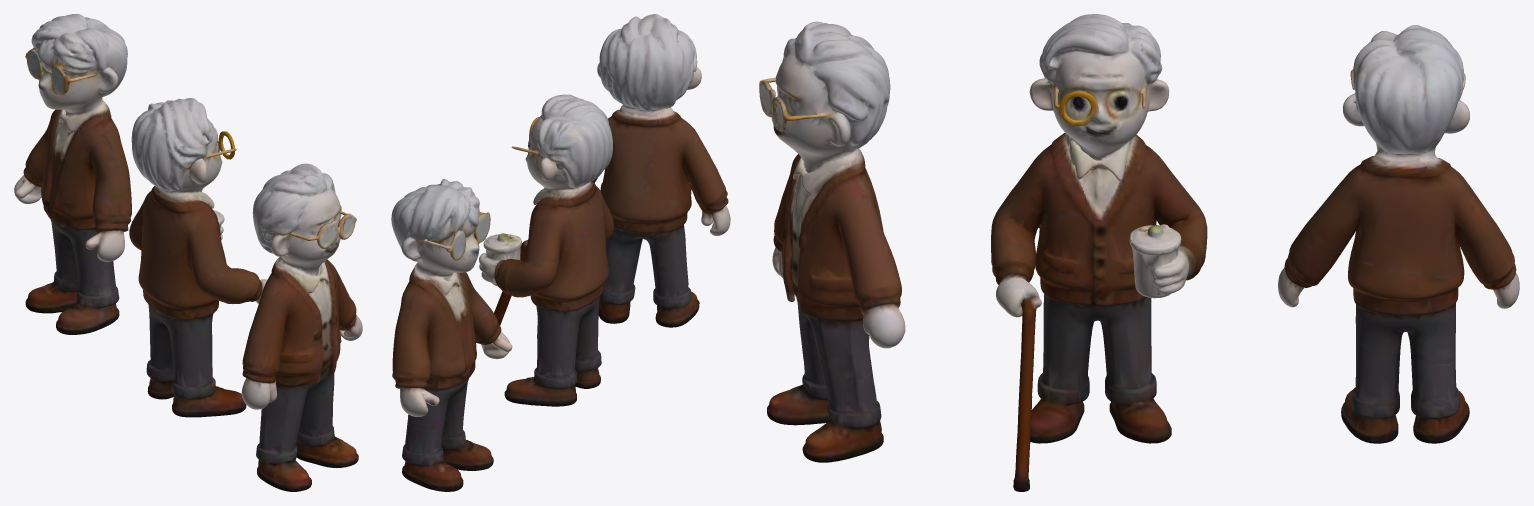
File: audience-06.glb
The picture shows the model from 3 angles, left to right: view 1: azimuth 30°, elevation 25°; view 2: azimuth 150°, elevation 25°; view 3: azimuth 270°, elevation 25°; orthographic projection. The views are drawn at different scales.
Visible parts, largest first — view 1: tripo_node_9eb0b572-3714-4f48-a4fc-07ce94ad66e3; view 2: tripo_node_9eb0b572-3714-4f48-a4fc-07ce94ad66e3; view 3: tripo_node_9eb0b572-3714-4f48-a4fc-07ce94ad66e3.
Boxes of the visible parts, x1,y1,x2,y2 form: tripo_node_9eb0b572-3714-4f48-a4fc-07ce94ad66e3: (14, 14, 362, 491); tripo_node_9eb0b572-3714-4f48-a4fc-07ce94ad66e3: (391, 14, 730, 491); tripo_node_9eb0b572-3714-4f48-a4fc-07ce94ad66e3: (759, 14, 1519, 491).
Bounding box in the file's own units: 0.974 × 1.7 × 2.91.
Materials: 1 (1 with a texture image).
